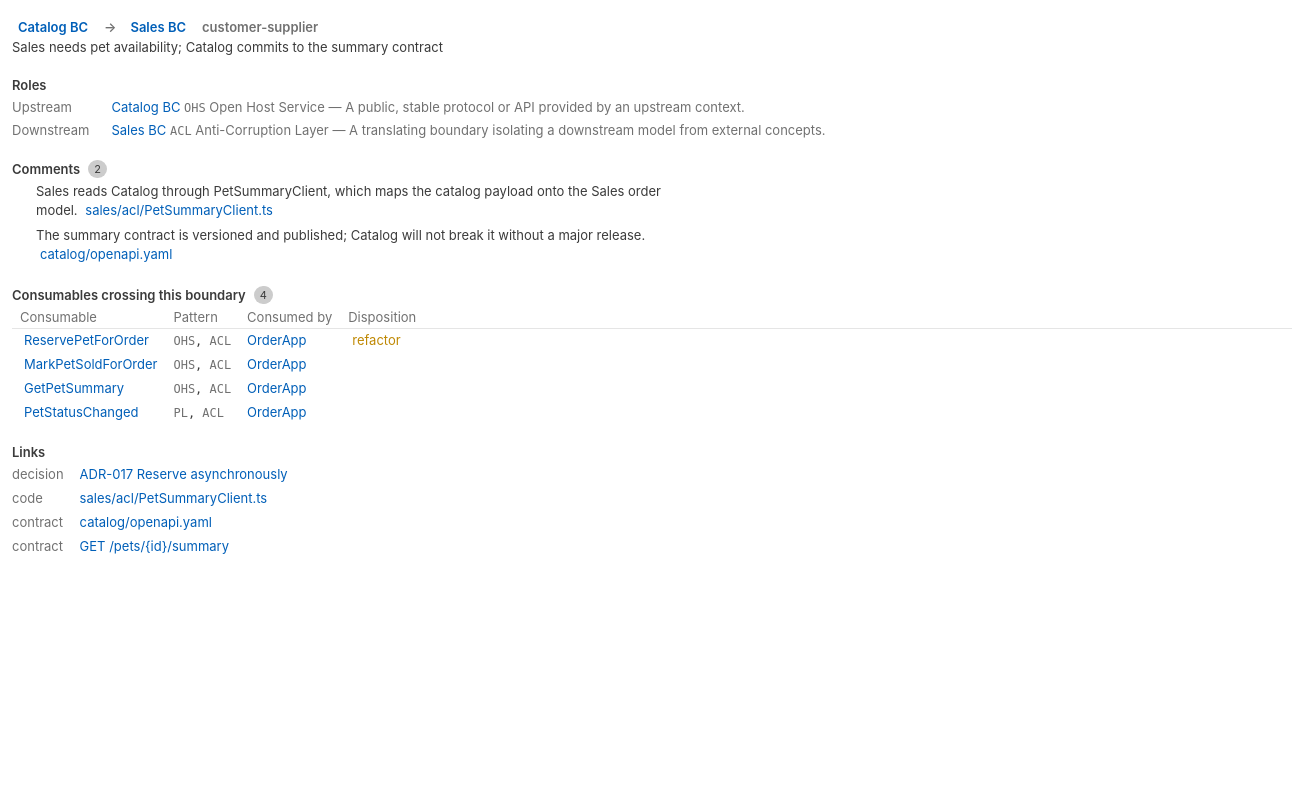
Test case: RelationshipDetail › discloses the pattern and this relationship's evidence from the type and role keywords
Focus the element showing "ACL": (183, 130) [170,122,195,138]
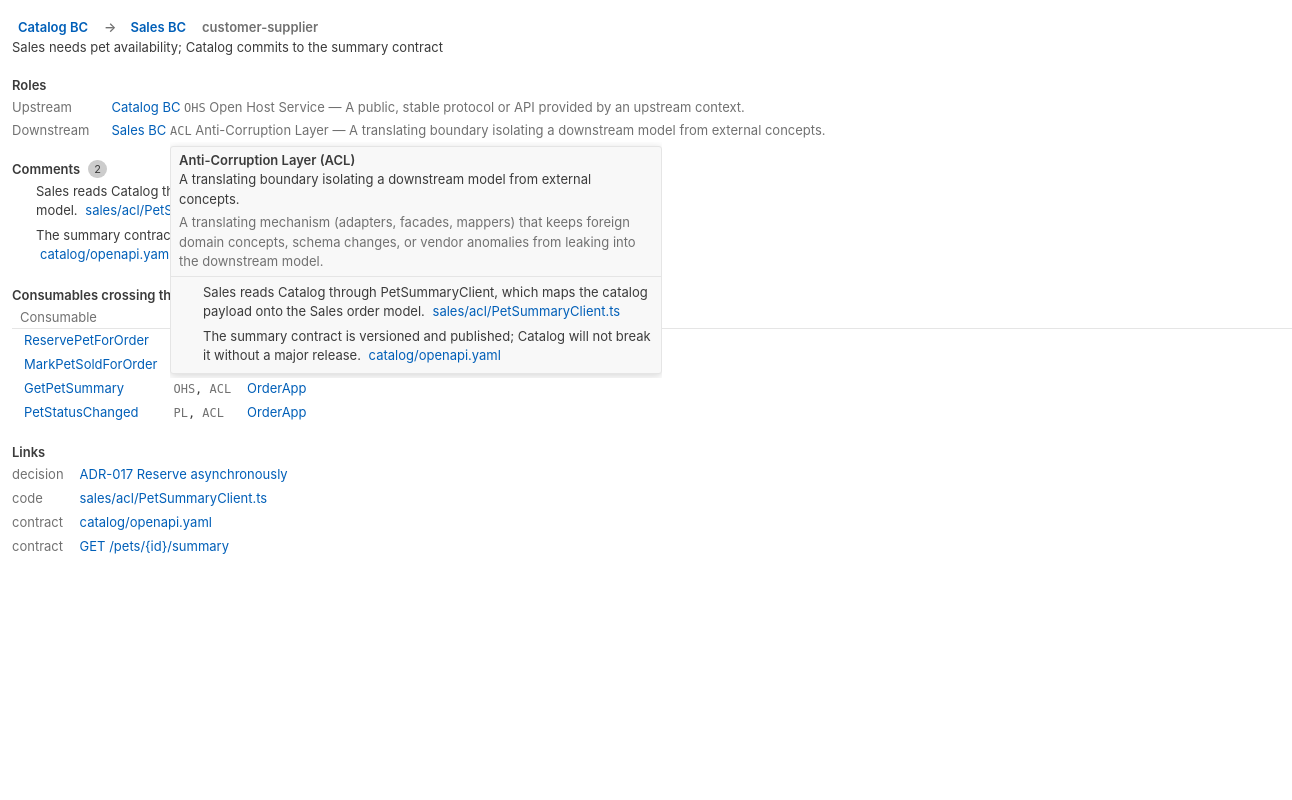
Now the text with class "heading" shows "Anti-Corruption Layer", box [179,152,355,168]
Now the tooltip with class "hover-card" shows "A translating boundary isolating a downstream model from external concepts.", box [179,171,591,206]
Now the tooltip with class "hover-card" shows "PetSummaryClient", box [203,284,648,319]
